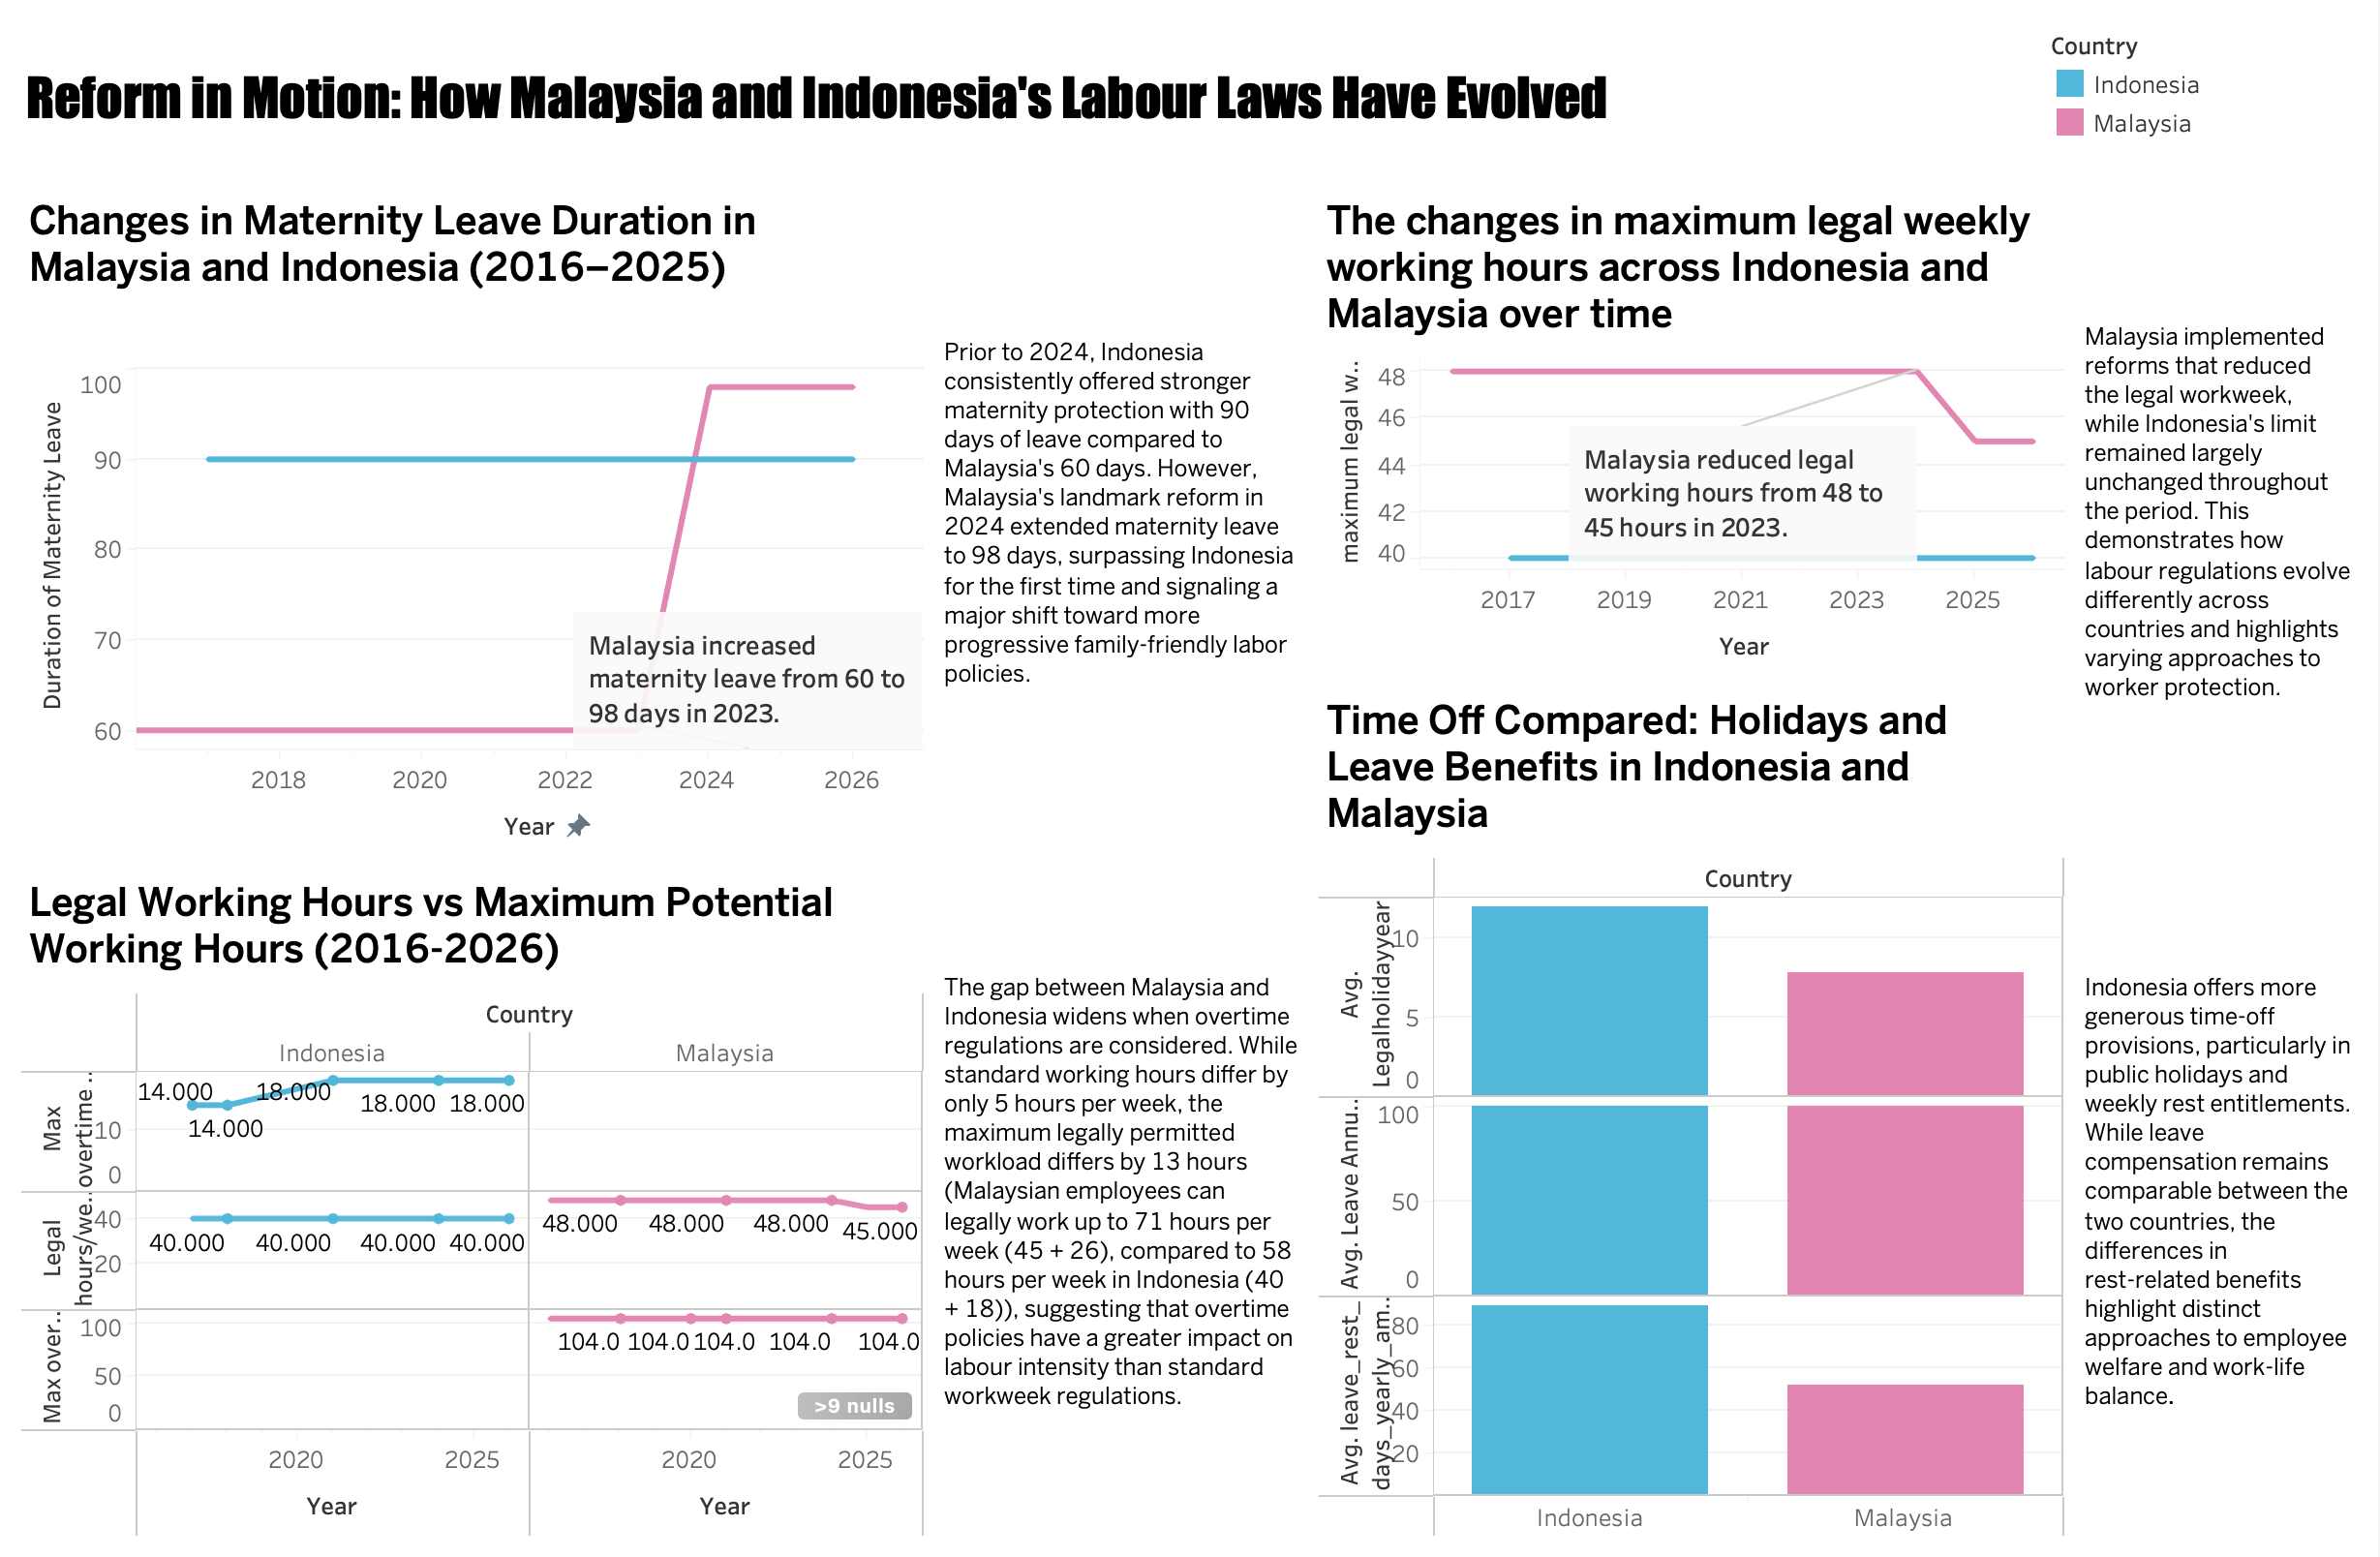

Layout of this report page (visuals, bound fields, positions):
{"tool":"tableau","page":{"name":"Dashboard","canvas":[1000,1000],"units":"permille","ordinal":0},"visuals":[{"type":"text","box":[7.7,11.5,984.6,108.2]},{"type":"legend","title":"chart 4","param":"[federated.0lzpvks1mdi652123pm1f1jicw7a].[none:Country:nk]","box":[862.5,21.7,134.6,83.7]},{"type":"worksheet","title":"chart 2","mark":"Line","rows":["matleaveduration"],"cols":["Year"],"box":[7.7,119.8,343.3,434.4]},{"type":"text","box":[351,119.8,141.3,434.4]},{"type":"worksheet","title":"chart 1","mark":"Line","rows":["legalworkhoursweek"],"cols":["Year"],"box":[492.3,119.8,377.9,349.2]},{"type":"text","box":[870.1,119.8,122.2,434.3]},{"type":"worksheet","title":"chart 4","mark":"Automatic","rows":["legalholidayyear","leave_annualleave_pay_during_leave_percentage","Calculation_0453838060998657"],"cols":["Country"],"box":[492.3,469,377.9,519.5]},{"type":"worksheet","title":"chart 5","mark":"Automatic","rows":["overtimehours_max_week","legalworkhoursweek","overtimehours_max_month"],"cols":["Country","Year"],"box":[7.7,554.1,343.3,434.4]},{"type":"text","box":[350.9,554.1,141.3,434.4]},{"type":"text","box":[870.1,554.1,122.2,434.4]}]}

Visuals, with their boxes on the dashboard's canvas, which has no fixed pixel size, in thousandths of its width and height (x1, y1, x2, y2). These are canvas units, not pixel positions in the 2380x1557 screenshot, which may show the page scaled, cropped or inside an application window:
text: x1=8, y1=12, x2=992, y2=120
"chart 4" legend: x1=862, y1=22, x2=997, y2=105
"chart 2" worksheet (Line marks): x1=8, y1=120, x2=351, y2=554
text: x1=351, y1=120, x2=492, y2=554
"chart 1" worksheet (Line marks): x1=492, y1=120, x2=870, y2=469
text: x1=870, y1=120, x2=992, y2=554
"chart 4" worksheet: x1=492, y1=469, x2=870, y2=988
"chart 5" worksheet: x1=8, y1=554, x2=351, y2=988
text: x1=351, y1=554, x2=492, y2=988
text: x1=870, y1=554, x2=992, y2=988
